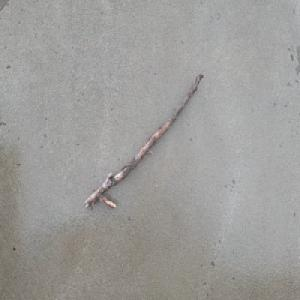Wood: (83, 70, 205, 210)
